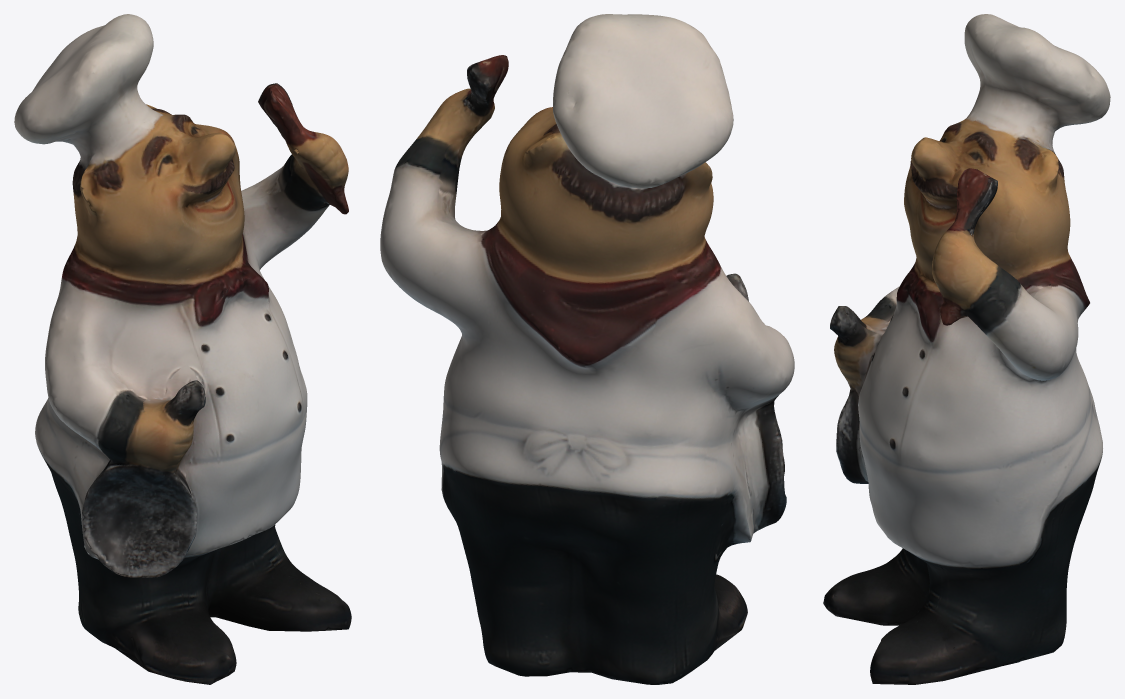
3 renders of one model, left to right at view 1: azimuth 30°, elevation 25°; view 2: azimuth 150°, elevation 25°; view 3: azimuth 270°, elevation 25°, orthographic. The views are drawn at different scales.
Visible parts, largest first — view 1: Stereo textured mesh; view 2: Stereo textured mesh; view 3: Stereo textured mesh.
Boxes of the visible parts, box(x1,y1,x2,y2) form: Stereo textured mesh: box(14, 14, 351, 684); Stereo textured mesh: box(380, 14, 794, 684); Stereo textured mesh: box(823, 14, 1110, 684).
Bounding box in the file's own units: 555 × 1000 × 446.
Materials: 1 (1 with a texture image).
